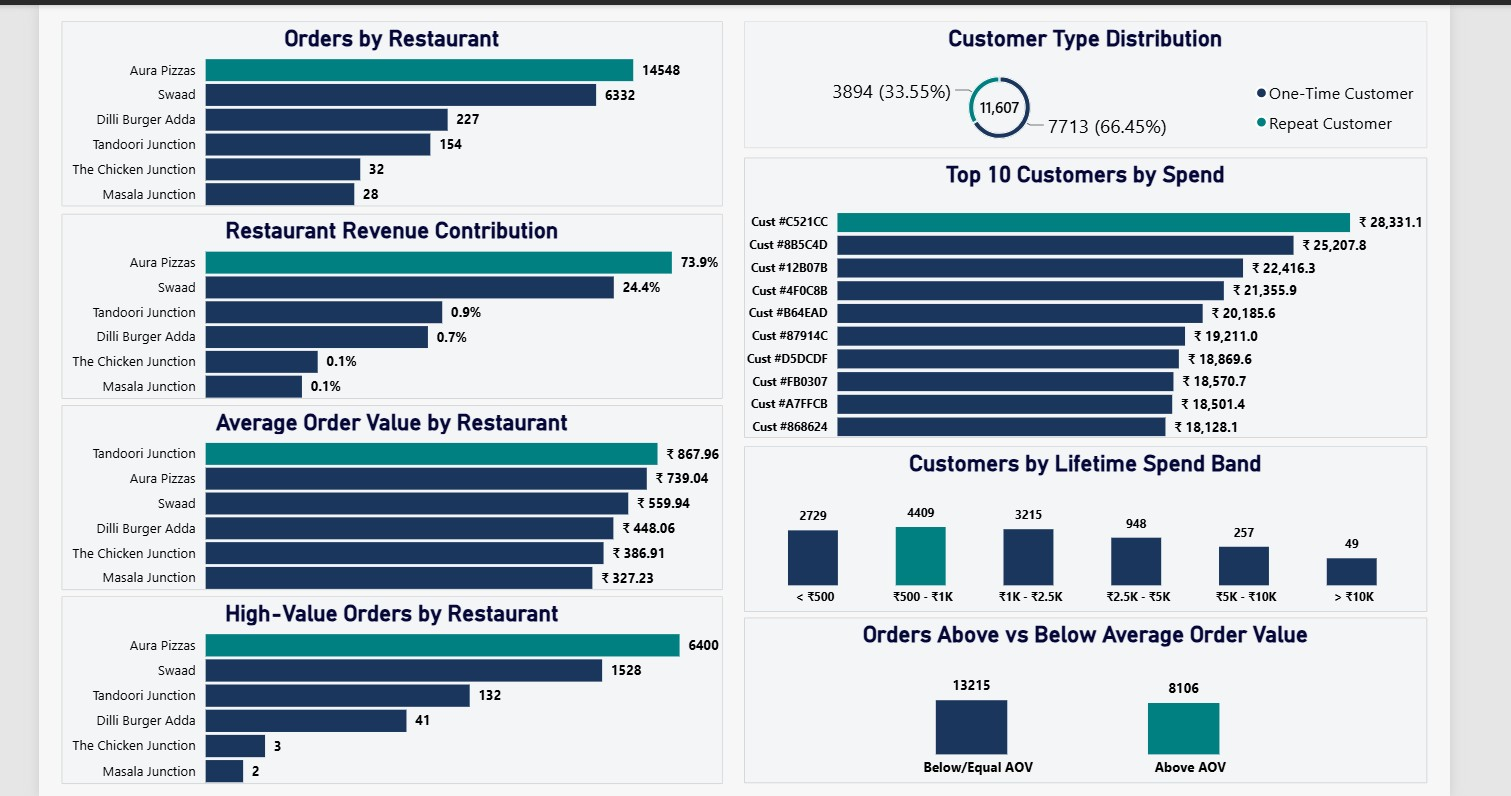

What the dashboard file says about the page in this screenshot:
{"tool":"powerbi","page":{"name":"Page 2","canvas":[1280,720],"ordinal":1},"visuals":[{"type":"clusteredBarChart","title":"Restaurant Revenue Contribution","fields":{"Category":["food_delivery_analysis food_orders.restaurant_name"],"Y":["food_delivery_analysis food_orders.Revenue Contribution Pct"]},"box":[20,189,600,168],"z":0},{"type":"clusteredBarChart","title":"Orders by Restaurant","fields":{"Category":["food_delivery_analysis food_orders.restaurant_name"],"Y":["Count(food_delivery_analysis food_orders.order_id)"]},"box":[20,15,600,168],"z":1000},{"type":"clusteredBarChart","title":"Average Order Value by Restaurant","fields":{"Category":["food_delivery_analysis food_orders.restaurant_name"],"Y":["food_delivery_analysis food_orders.Restaurant AOV"]},"box":[20,363,600,168],"z":2000},{"type":"clusteredBarChart","title":"High-Value Orders by Restaurant","fields":{"Category":["food_delivery_analysis food_orders.restaurant_name"],"Y":["Count(food_delivery_analysis food_orders.order_id)"]},"box":[20,537,600,170],"z":3000},{"type":"donutChart","title":"Customer Type Distribution","fields":{"Category":["food_delivery_analysis food_orders.Customer Type"],"Y":["Count(food_delivery_analysis food_orders.customer_id)"]},"box":[640,15,620,115],"z":4000},{"type":"clusteredBarChart","title":"Top 10 Customers by Spend","fields":{"Category":["food_delivery_analysis food_orders.Customer Display ID"],"Y":["Sum(food_delivery_analysis food_orders.total)"]},"box":[640,138.6,620,254.3],"z":5000},{"type":"clusteredColumnChart","title":"Customers by Lifetime Spend Band","fields":{"Category":["food_delivery_analysis food_orders.Customer Spend Bucket"],"Y":["Count(food_delivery_analysis food_orders.customer_id)"]},"box":[640,400,620,150],"z":6000},{"type":"clusteredColumnChart","title":"Orders Above vs Below Average Order Value","fields":{"Category":["food_delivery_analysis food_orders.Order AOV Classification"],"Y":["Count(food_delivery_analysis food_orders.order_id)"]},"box":[640,555.7,620,150],"z":7000}]}

Visuals, with their boxes on the page's 1280x720 design canvas (x1, y1, x2, y2). These are canvas units, not pixel positions in the 1511x796 screenshot, which may show the page scaled, cropped or inside an application window:
"Restaurant Revenue Contribution" clusteredBarChart: crop(20, 189, 620, 357)
"Orders by Restaurant" clusteredBarChart: crop(20, 15, 620, 183)
"Average Order Value by Restaurant" clusteredBarChart: crop(20, 363, 620, 531)
"High-Value Orders by Restaurant" clusteredBarChart: crop(20, 537, 620, 707)
"Customer Type Distribution" donutChart: crop(640, 15, 1260, 130)
"Top 10 Customers by Spend" clusteredBarChart: crop(640, 139, 1260, 393)
"Customers by Lifetime Spend Band" clusteredColumnChart: crop(640, 400, 1260, 550)
"Orders Above vs Below Average Order Value" clusteredColumnChart: crop(640, 556, 1260, 706)
